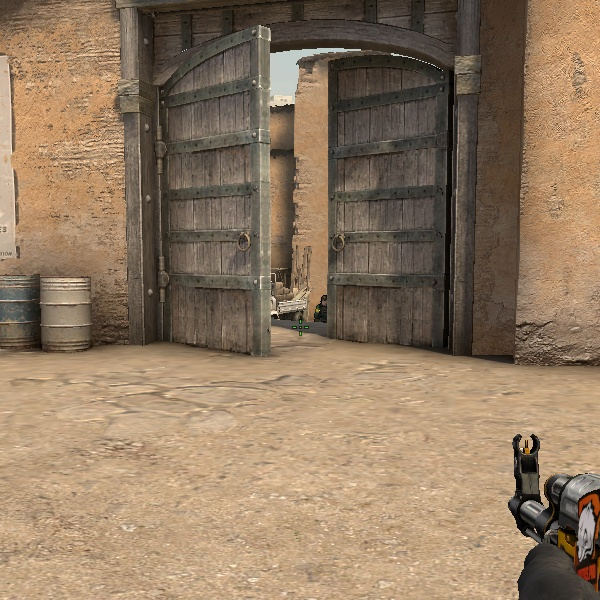ct_body: (312, 294, 328, 324)
ct_head: (319, 294, 330, 308)
